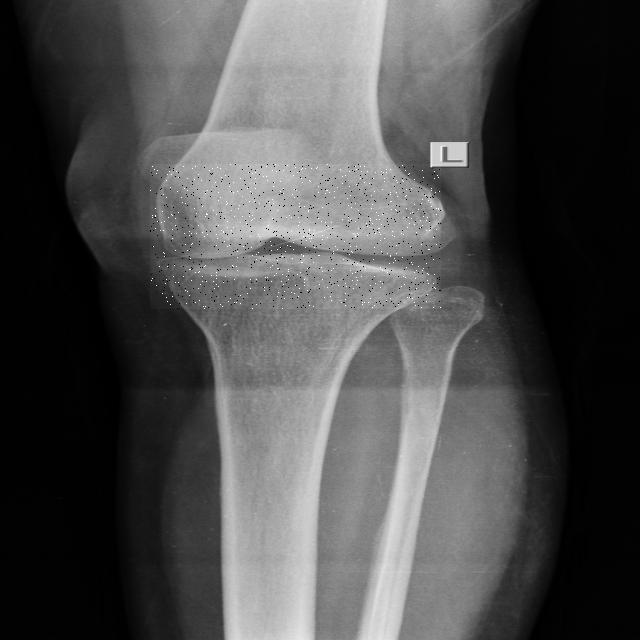osteo: (150, 164, 441, 309)
